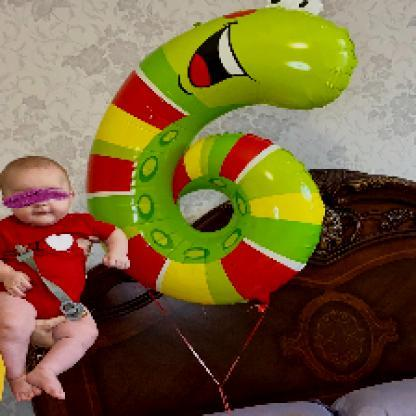child: (1, 155, 131, 404)
